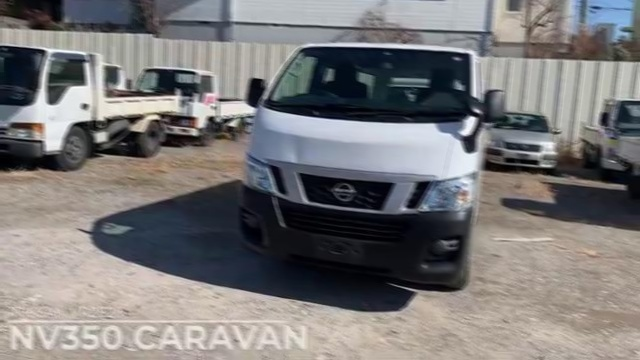van: (242, 42, 483, 294)
